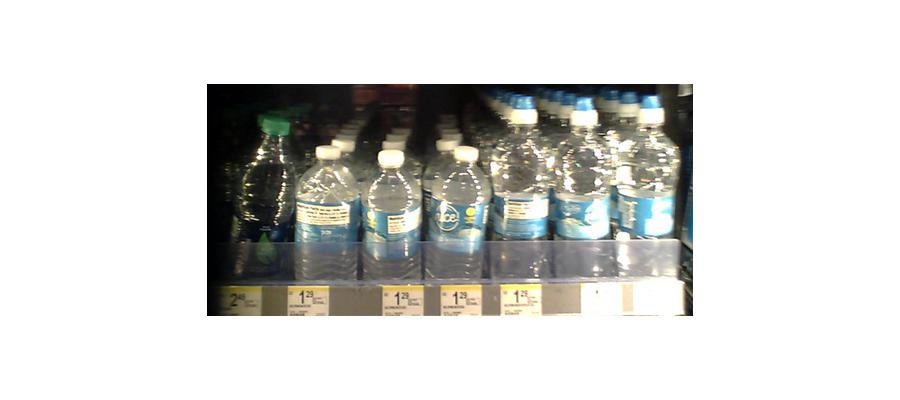bottle: (489, 95, 552, 281), (615, 94, 677, 278), (553, 97, 614, 278), (232, 114, 291, 279), (295, 140, 358, 282), (424, 142, 486, 282), (361, 149, 420, 280)
